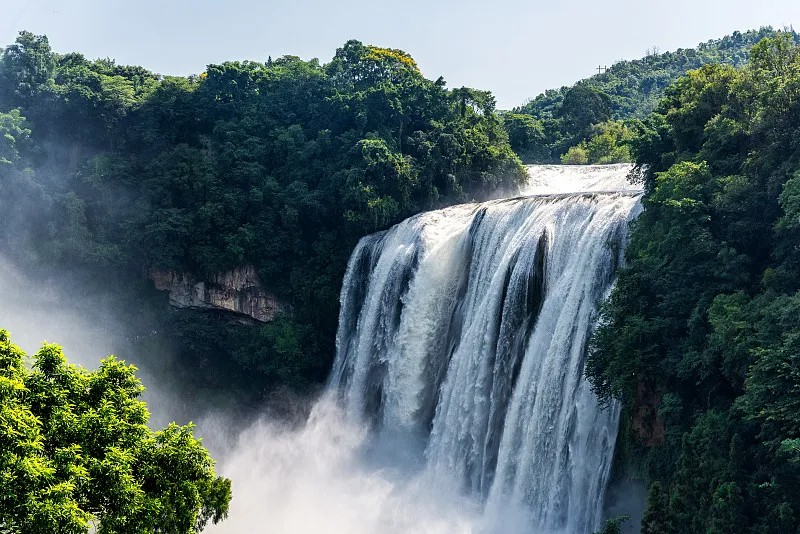Huangguoshu: (330, 164, 646, 532)
